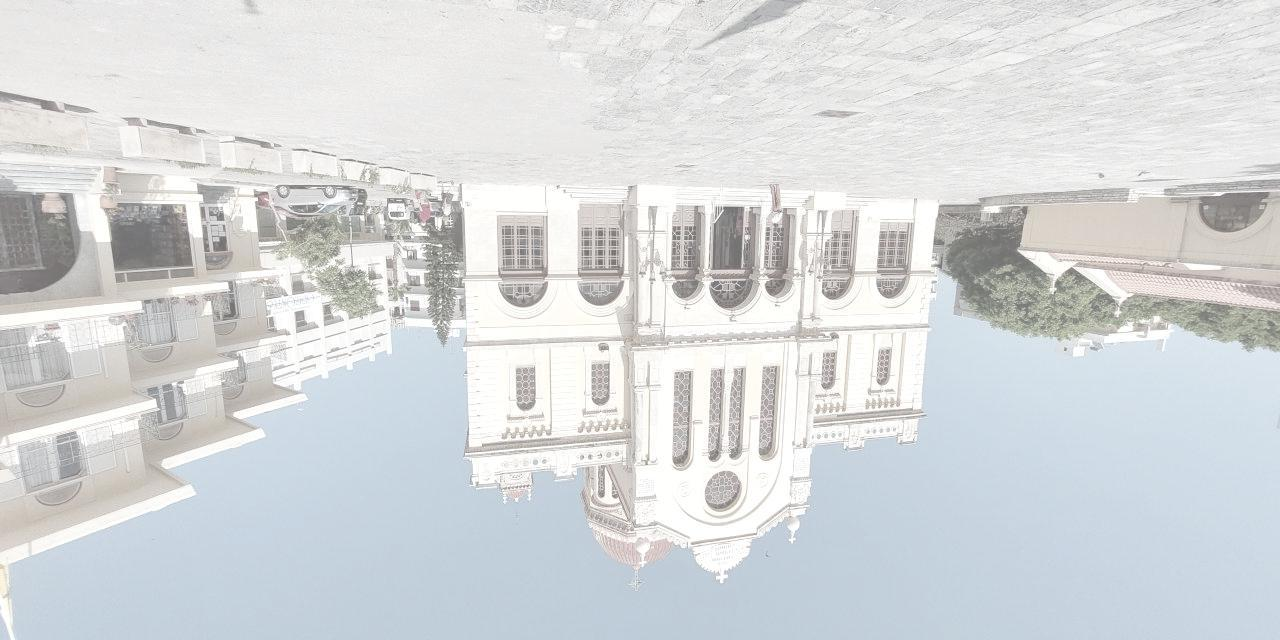Agios Minas: (449, 177, 935, 599)
